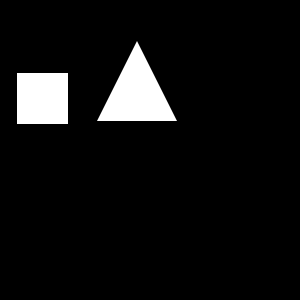circle: (17, 73, 68, 124)
triangle: (97, 41, 177, 121)
